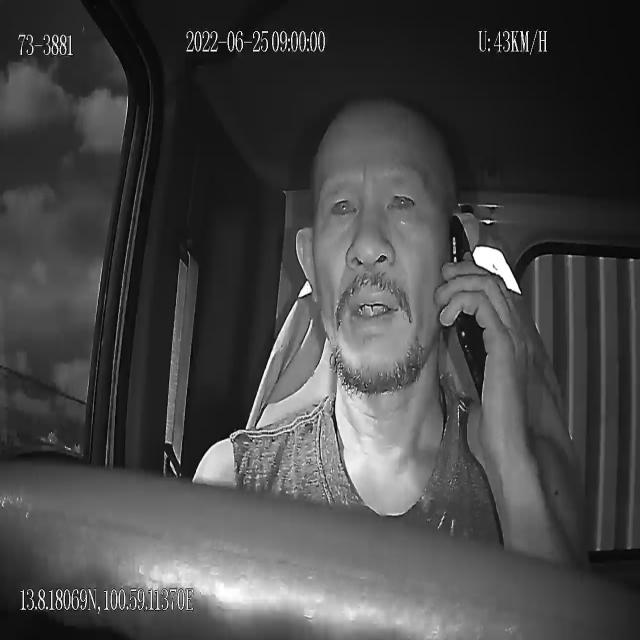phone: (447, 212, 487, 406)
